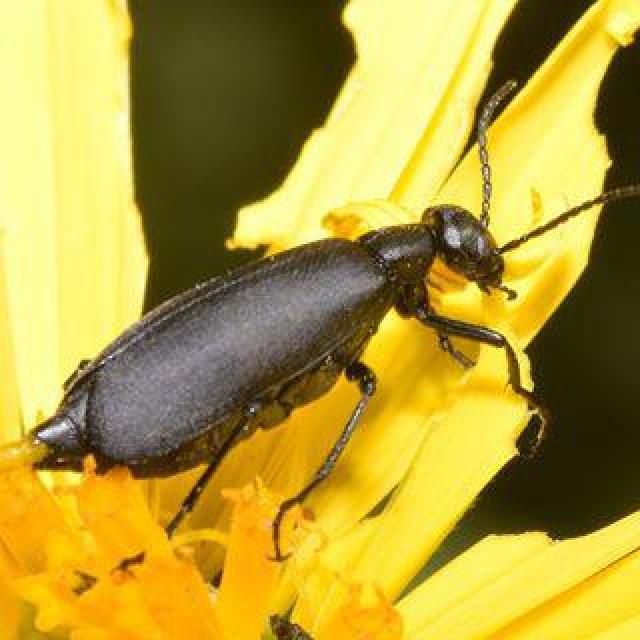BlisterBeetle-Adult-: (23, 80, 588, 505)
